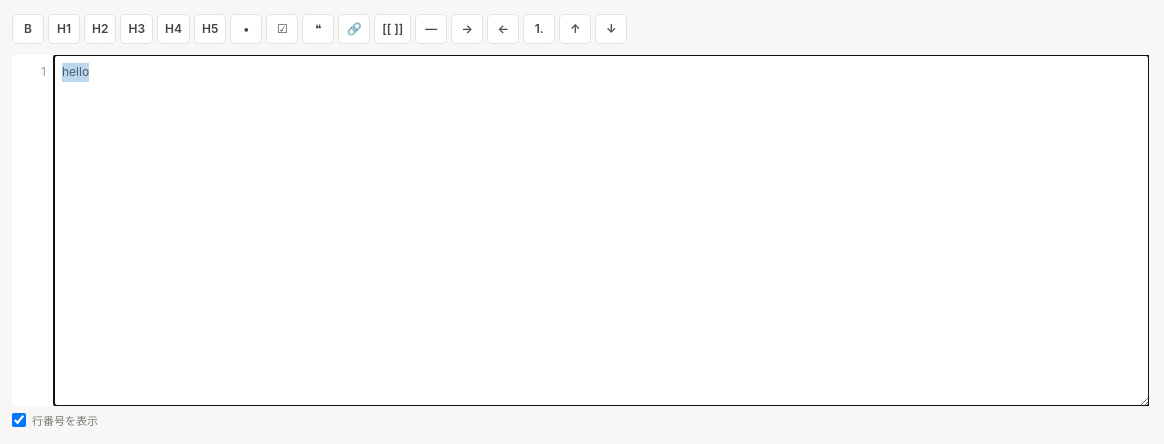
Test: NoteMarkdownEditor and shared Note UI helpers › keeps textarea selection and focus when a toolbar command wraps selected source
What coordinates should you click on to do the following:
click the button named "太字"
I would click on:
 (28, 29)
Its box is [12,14,44,44].
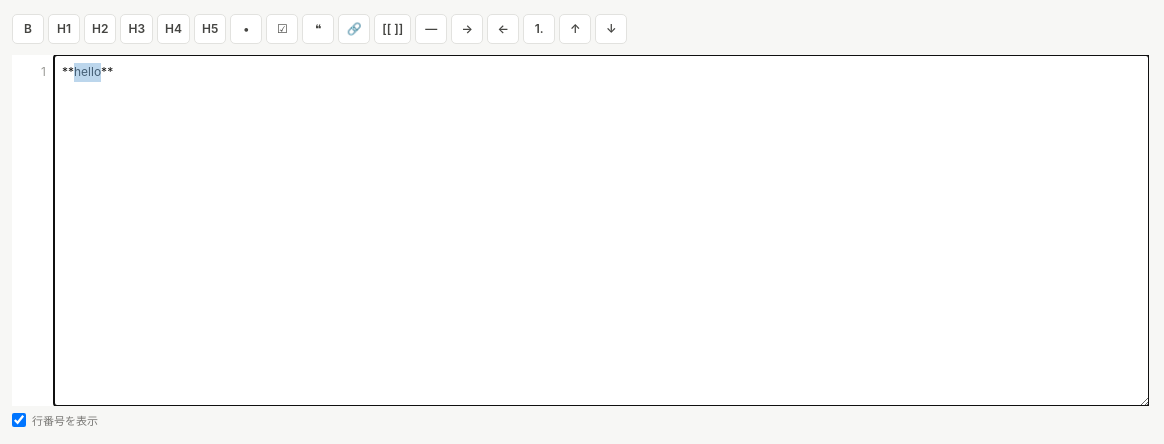
expect the text box named "Markdown本文" holds "**hello**": met
